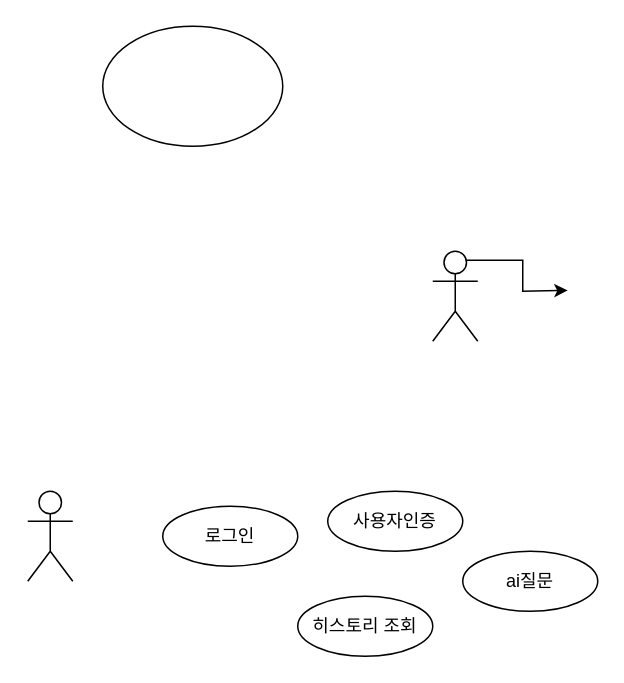
Image size: 624x683. Some labels were removed from this diagram. Here are the shapes that lost their labels. From the top down, the centre of each, then its label:
point (454, 295): Actor
point (49, 535): 사용자
